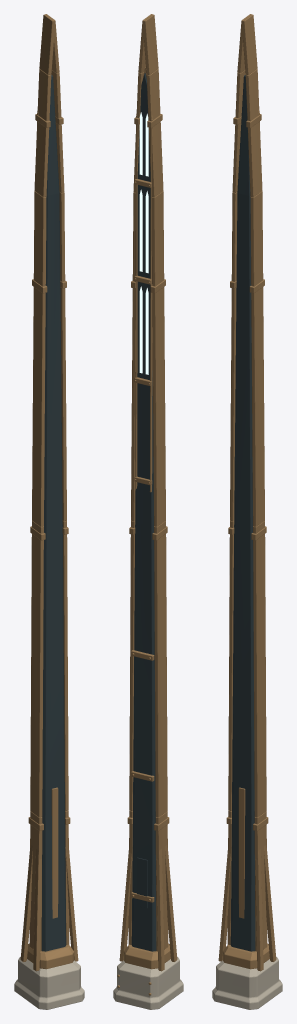
File: arrival-beacon-crown.glb
3 renders of one model, left to right at view 1: azimuth 30°, elevation 25°; view 2: azimuth 150°, elevation 25°; view 3: azimuth 330°, elevation 25°, orthographic.
Parts seen in each view (by area): view 1: arrival-beacon-crown / bronze, arrival-beacon-crown / recess, arrival-beacon-crown / stone; view 2: arrival-beacon-crown / bronze, arrival-beacon-crown / recess, arrival-beacon-crown / stone, arrival-beacon-crown / light; view 3: arrival-beacon-crown / bronze, arrival-beacon-crown / recess, arrival-beacon-crown / stone.
Part boxes in pixels (x1,y1,x2,y2): arrival-beacon-crown / bronze: (20, 14, 78, 971); arrival-beacon-crown / recess: (41, 75, 66, 951); arrival-beacon-crown / stone: (14, 957, 84, 1009); arrival-beacon-crown / bronze: (117, 14, 177, 995); arrival-beacon-crown / recess: (131, 73, 156, 951); arrival-beacon-crown / stone: (113, 957, 183, 1009); arrival-beacon-crown / light: (139, 112, 148, 374); arrival-beacon-crown / bronze: (218, 14, 276, 971); arrival-beacon-crown / recess: (230, 75, 255, 951); arrival-beacon-crown / stone: (212, 957, 282, 1009).
Size of the model in its own units: 10 by 202 by 11.6.
